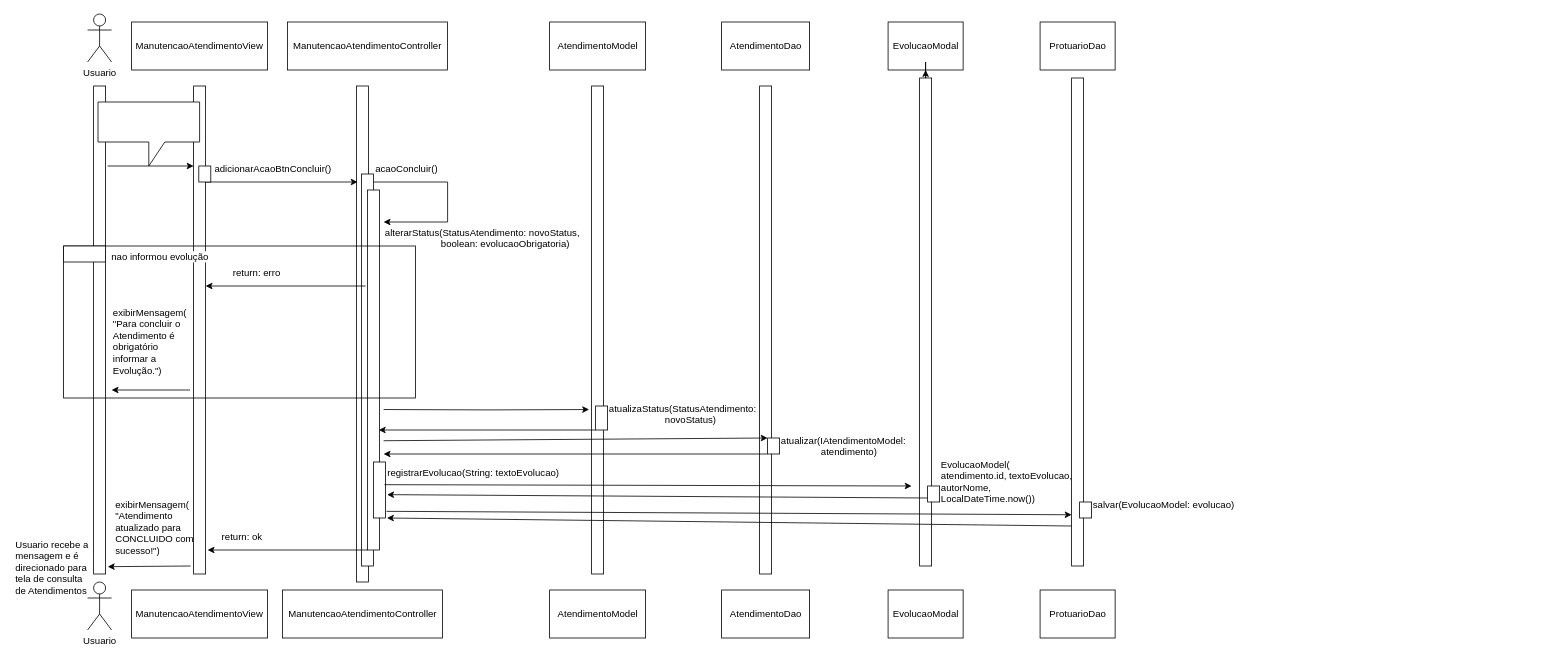
This 1554x661 diagram has some shape labels left out. Here are the shapes that lost their labels. From the top down, the box of each, then its label:
(97, 101, 200, 166): Usuário clica para concluir um atendimento
(63, 245, 106, 262): opt
